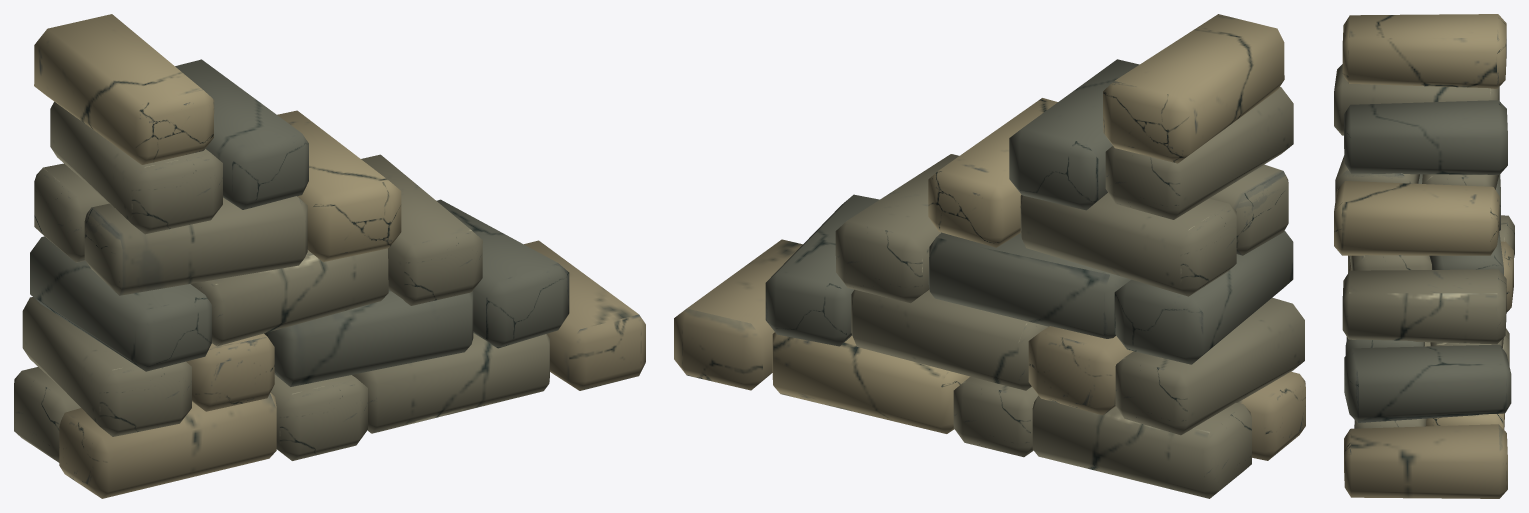
Rendered from stairs (1).fbx.
3 views of the same model, side by side, from view 1: azimuth 30°, elevation 25°; view 2: azimuth 150°, elevation 25°; view 3: azimuth 270°, elevation 25° (orthographic). The views are drawn at different scales.
Parts seen in each view (by area): view 1: stairs:polySurface368; view 2: stairs:polySurface368; view 3: stairs:polySurface368.
Boxes of the visible parts, x1,y1,x2,y2 form: stairs:polySurface368: [14, 14, 645, 498]; stairs:polySurface368: [674, 14, 1305, 498]; stairs:polySurface368: [1334, 14, 1514, 498].
Bounding box in the file's own units: 307 × 214 × 116.
